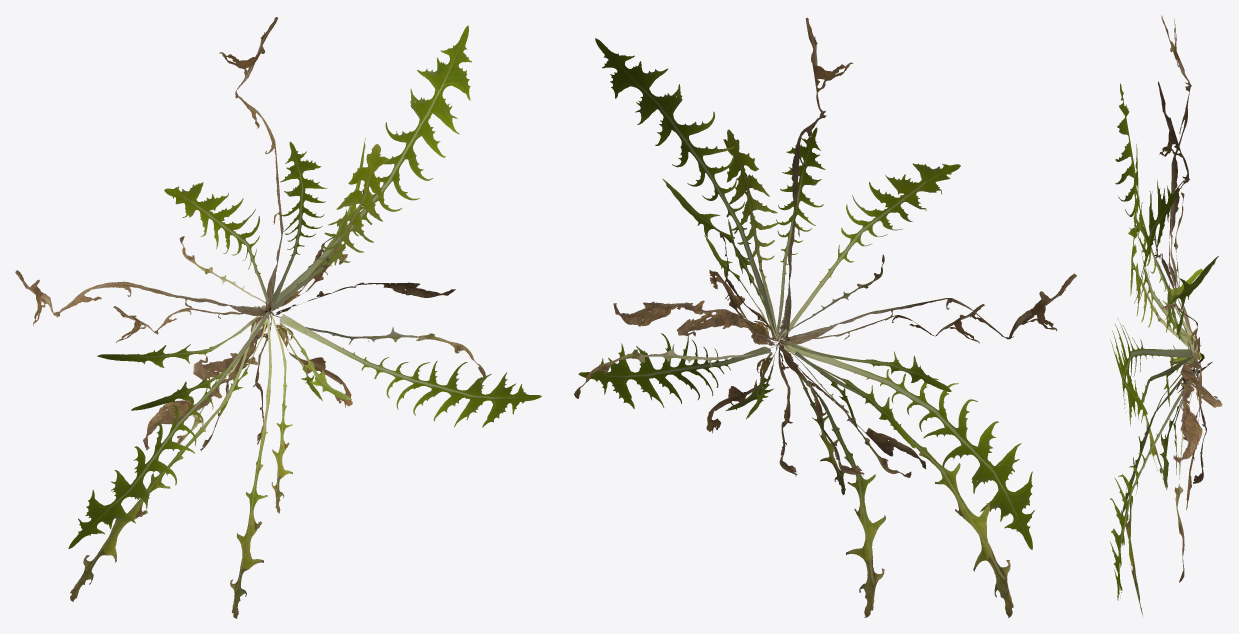
The model's file is Weed_02_Var2_LOD0.fbx.
The picture shows the model from 3 angles, left to right: view 1: azimuth 30°, elevation 25°; view 2: azimuth 150°, elevation 25°; view 3: azimuth 270°, elevation 25°; orthographic projection. The views are drawn at different scales.
Parts seen in each view (by area): view 1: Var2_LOD0; view 2: Var2_LOD0; view 3: Var2_LOD0.
Boxes of the visible parts, x1,y1,x2,y2 form: Var2_LOD0: [15, 17, 541, 618]; Var2_LOD0: [574, 17, 1076, 617]; Var2_LOD0: [1109, 15, 1222, 616].
Size of the model in its own units: 55.24 by 60.73 by 10.21.
